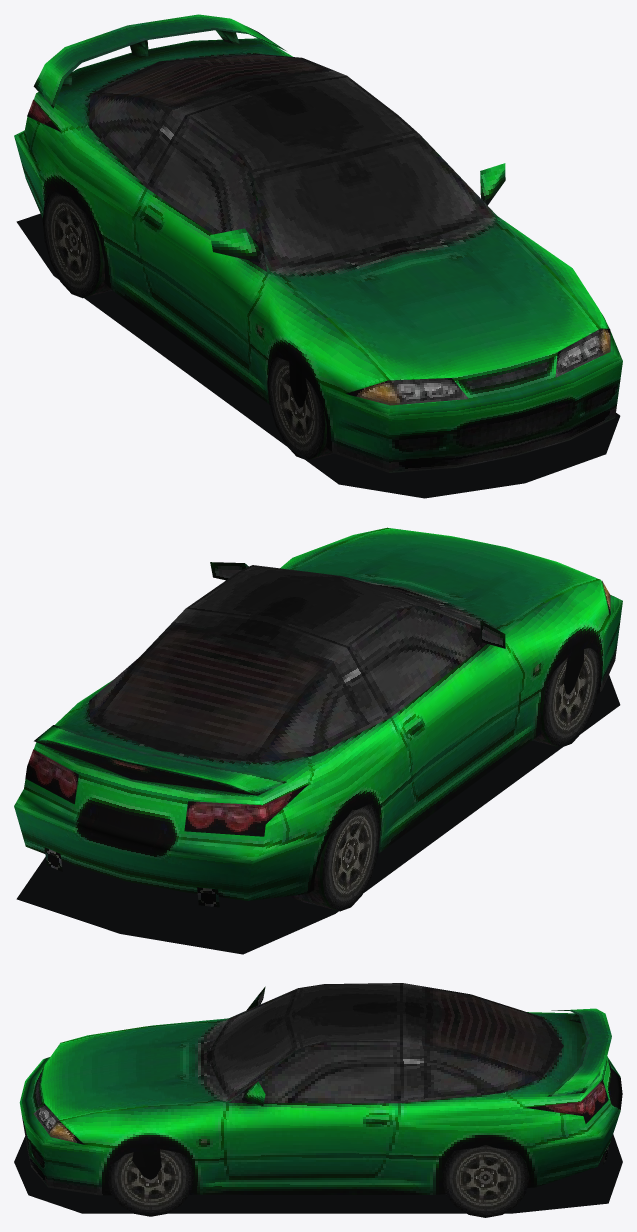
3 views of the same model, one above another, from view 1: azimuth 30°, elevation 25°; view 2: azimuth 150°, elevation 25°; view 3: azimuth 270°, elevation 25° (orthographic). The views are drawn at different scales.
Parts seen in each view (by area): view 1: Body, Wheel_RR, Wheel_FR; view 2: Body, Wheel_RR, Wheel_FR; view 3: Body, Wheel_RL, Wheel_FL.
Boxes of the visible parts, x1=… form: Body: x1=14, y1=14, x2=622, y2=498; Wheel_RR: x1=42, y1=190, x2=112, y2=298; Wheel_FR: x1=267, y1=357, x2=334, y2=459; Body: x1=14, y1=527, x2=622, y2=954; Wheel_RR: x1=291, y1=803, x2=380, y2=911; Wheel_FR: x1=532, y1=648, x2=600, y2=746; Body: x1=14, y1=983, x2=622, y2=1213; Wheel_RL: x1=442, y1=1145, x2=529, y2=1217; Wheel_FL: x1=107, y1=1149, x2=194, y2=1216.
Bounding box in the file's own units: 1.89 × 1.31 × 4.5.
Materials: 1 (1 with a texture image).
